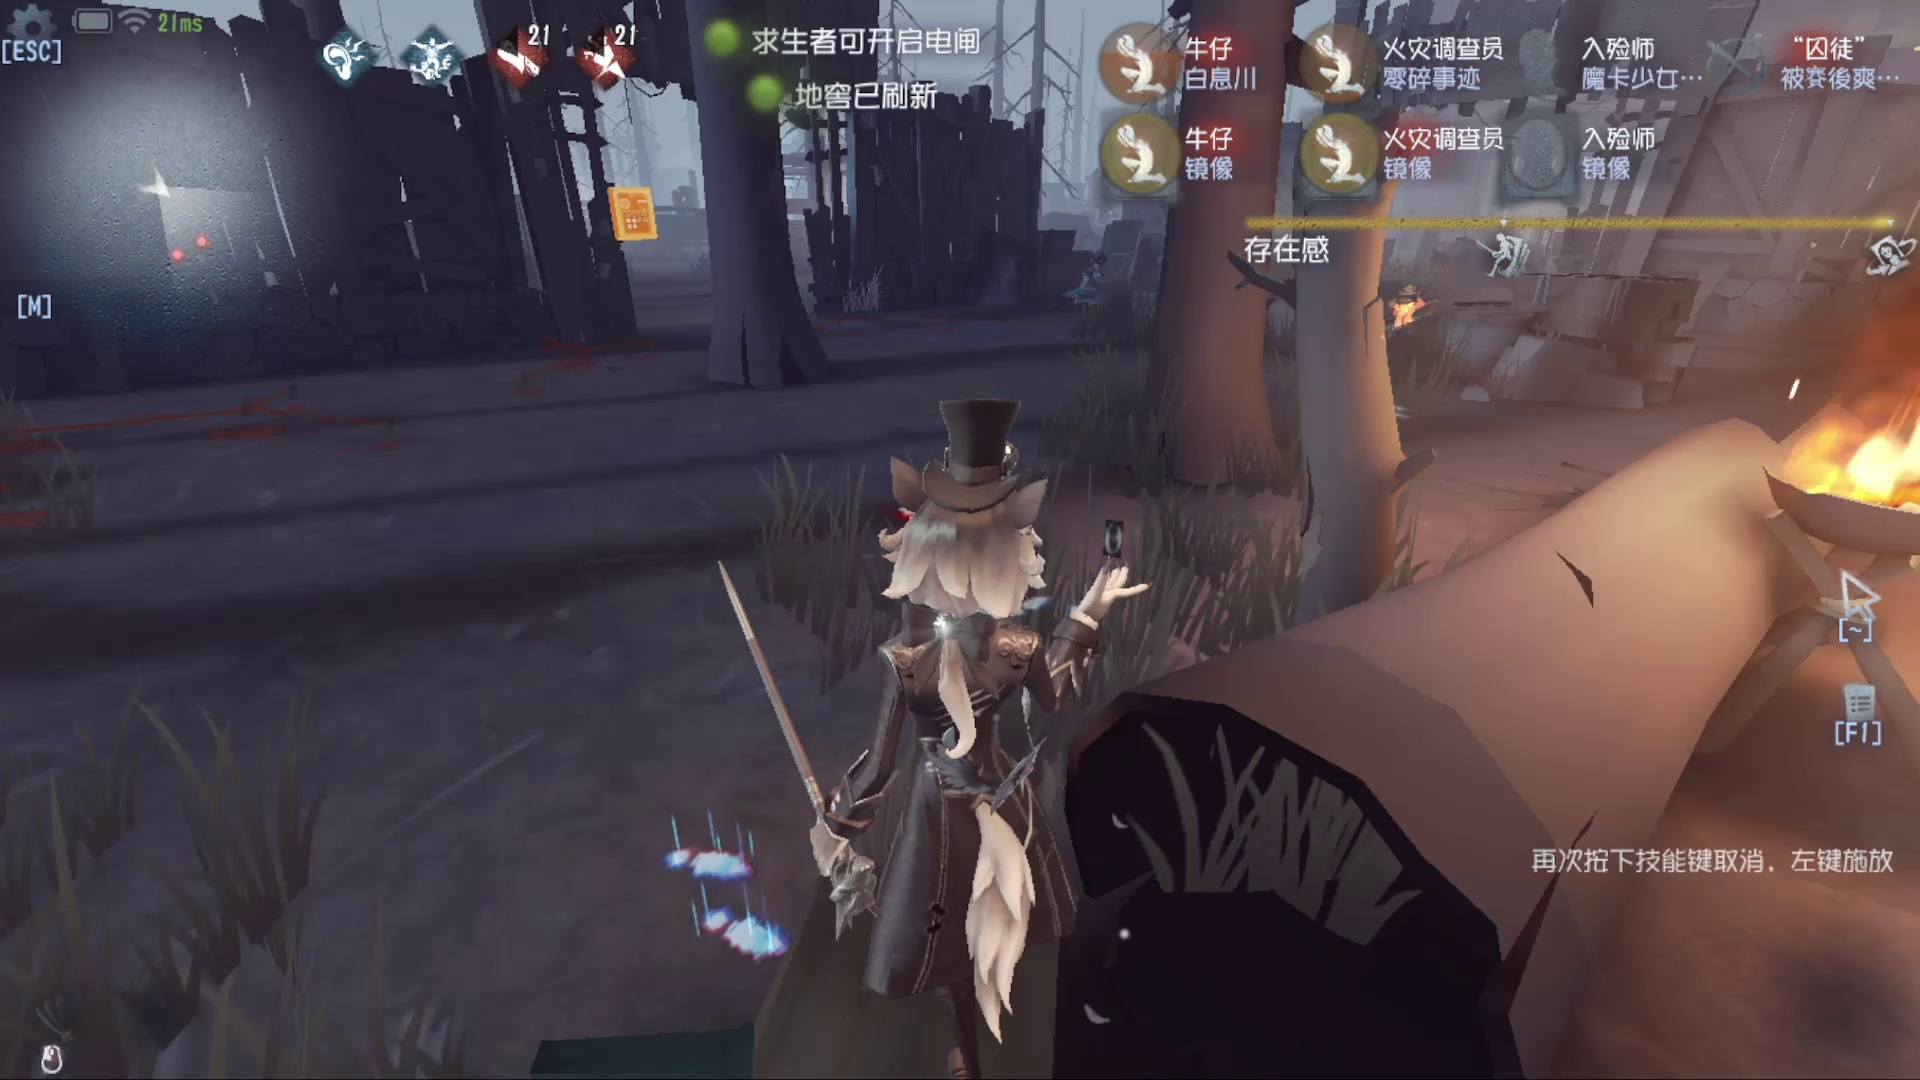求生者: (1073, 239, 1120, 323)
脚印: (129, 371, 622, 471)
